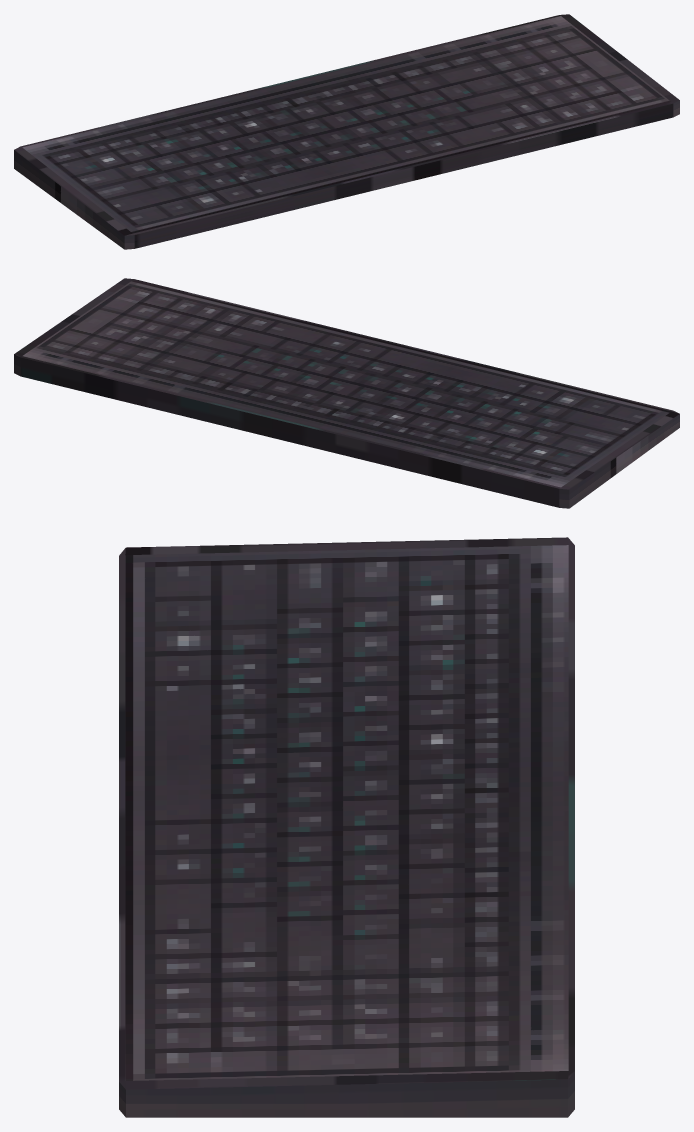
The model's file is клавиатура.fbx.
3 renders of one model, top to bottom at view 1: azimuth 30°, elevation 25°; view 2: azimuth 150°, elevation 25°; view 3: azimuth 270°, elevation 25°, orthographic. The views are drawn at different scales.
Parts seen in each view (by area): view 1: Cube.013; view 2: Cube.013; view 3: Cube.013.
Part boxes in pixels (x1,y1,x2,y2): Cube.013: [14, 14, 679, 249]; Cube.013: [14, 278, 679, 508]; Cube.013: [119, 537, 574, 1117].
Bounding box in the file's own units: 563 × 18.82 × 200.
